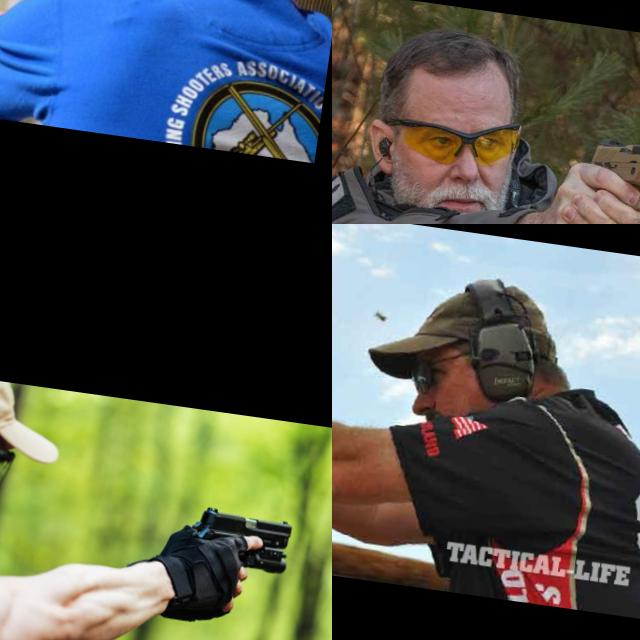handgun: (185, 503, 298, 576), (332, 337, 406, 414), (583, 123, 640, 220), (0, 0, 76, 42)
